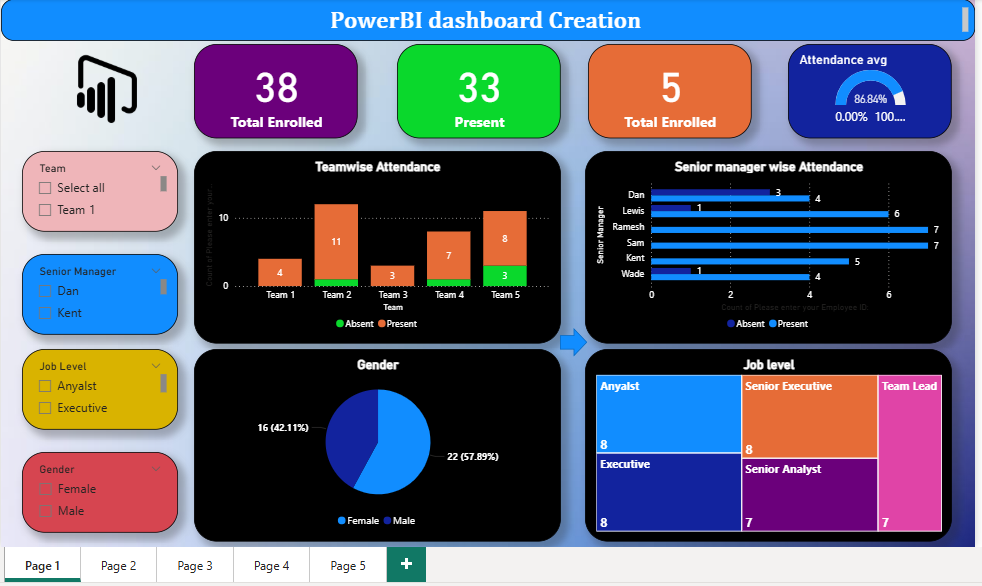

The page's visual inventory and layout, read from the dashboard file:
{"tool":"powerbi","page":{"name":"Page 1","canvas":[1280,720],"ordinal":0},"visuals":[{"type":"card","fields":{"Values":["CountNonNull(Data.Please enter your Employee ID:)"]},"box":[253.3,59.2,215,124.2],"z":0},{"type":"card","fields":{"Values":["CountNonNull(Data.Please enter your Employee ID:)"]},"box":[520,59.2,215,124.2],"z":1000},{"type":"card","fields":{"Values":["CountNonNull(Data.Please enter your Employee ID:)"]},"box":[770.8,59.2,214.7,123.9],"z":2000},{"type":"gauge","fields":{"Y":["Avg(Data.Attendance Status)"]},"box":[1034.2,59.2,215,124.2],"z":3000},{"type":"columnChart","title":"Teamwise Attendance","fields":{"Category":["Data.Team"],"Y":["CountNonNull(Data.Please enter your Employee ID:)"],"Series":["Data.Attendance"]},"box":[253.3,199.2,481.7,252.5],"z":4000},{"type":"clusteredBarChart","title":"Senior manager wise Attendance","fields":{"Y":["CountNonNull(Data.Please enter your Employee ID:)"],"Series":["Data.Attendance"],"Category":["Data.Senior Manager"]},"box":[767.5,199.2,481.7,252.5],"z":5000},{"type":"pieChart","title":"Gender","fields":{"Category":["Data.Gender","Data.Attendance"],"Y":["CountNonNull(Data.Please enter your Employee ID:)"]},"box":[253.3,460,481.7,252.5],"z":6000},{"type":"treemap","title":"Job level","fields":{"Values":["CountNonNull(Data.Please enter your Employee ID:)"],"Group":["Data.Job Level"]},"box":[767.5,460,481.7,252.5],"z":7000},{"type":"slicer","fields":{"Values":["Data.Team"]},"box":[27.5,199.2,205,105.8],"z":8000},{"type":"slicer","fields":{"Values":["Data.Senior Manager"]},"box":[27.5,335,205,105.8],"z":9000},{"type":"slicer","fields":{"Values":["Data.Job Level"]},"box":[27.5,460,205,105.8],"z":10000},{"type":"slicer","fields":{"Values":["Data.Gender"]},"box":[27.5,595,205,105.8],"z":11000},{"type":"image","box":[58.3,59.2,160,116.7],"z":12000},{"type":"shape","box":[735,432.5,35.8,37.5],"z":13000},{"type":"textbox","box":[0,0,1280,55],"z":14000}]}

Visuals, with their boxes on the page's 1280x720 design canvas (x1, y1, x2, y2). These are canvas units, not pixel positions in the 982x586 screenshot, which may show the page scaled, cropped or inside an application window:
card - CountNonNull(Data.Please enter your Employee ID:): <box>253,59,468,183</box>
card - CountNonNull(Data.Please enter your Employee ID:): <box>520,59,735,183</box>
card - CountNonNull(Data.Please enter your Employee ID:): <box>771,59,986,183</box>
gauge - Avg(Data.Attendance Status): <box>1034,59,1249,183</box>
"Teamwise Attendance" columnChart: <box>253,199,735,452</box>
"Senior manager wise Attendance" clusteredBarChart: <box>768,199,1249,452</box>
"Gender" pieChart: <box>253,460,735,712</box>
"Job level" treemap: <box>768,460,1249,712</box>
slicer - Data.Team: <box>28,199,232,305</box>
slicer - Data.Senior Manager: <box>28,335,232,441</box>
slicer - Data.Job Level: <box>28,460,232,566</box>
slicer - Data.Gender: <box>28,595,232,701</box>
image: <box>58,59,218,176</box>
shape: <box>735,432,771,470</box>
textbox: <box>0,0,1280,55</box>
